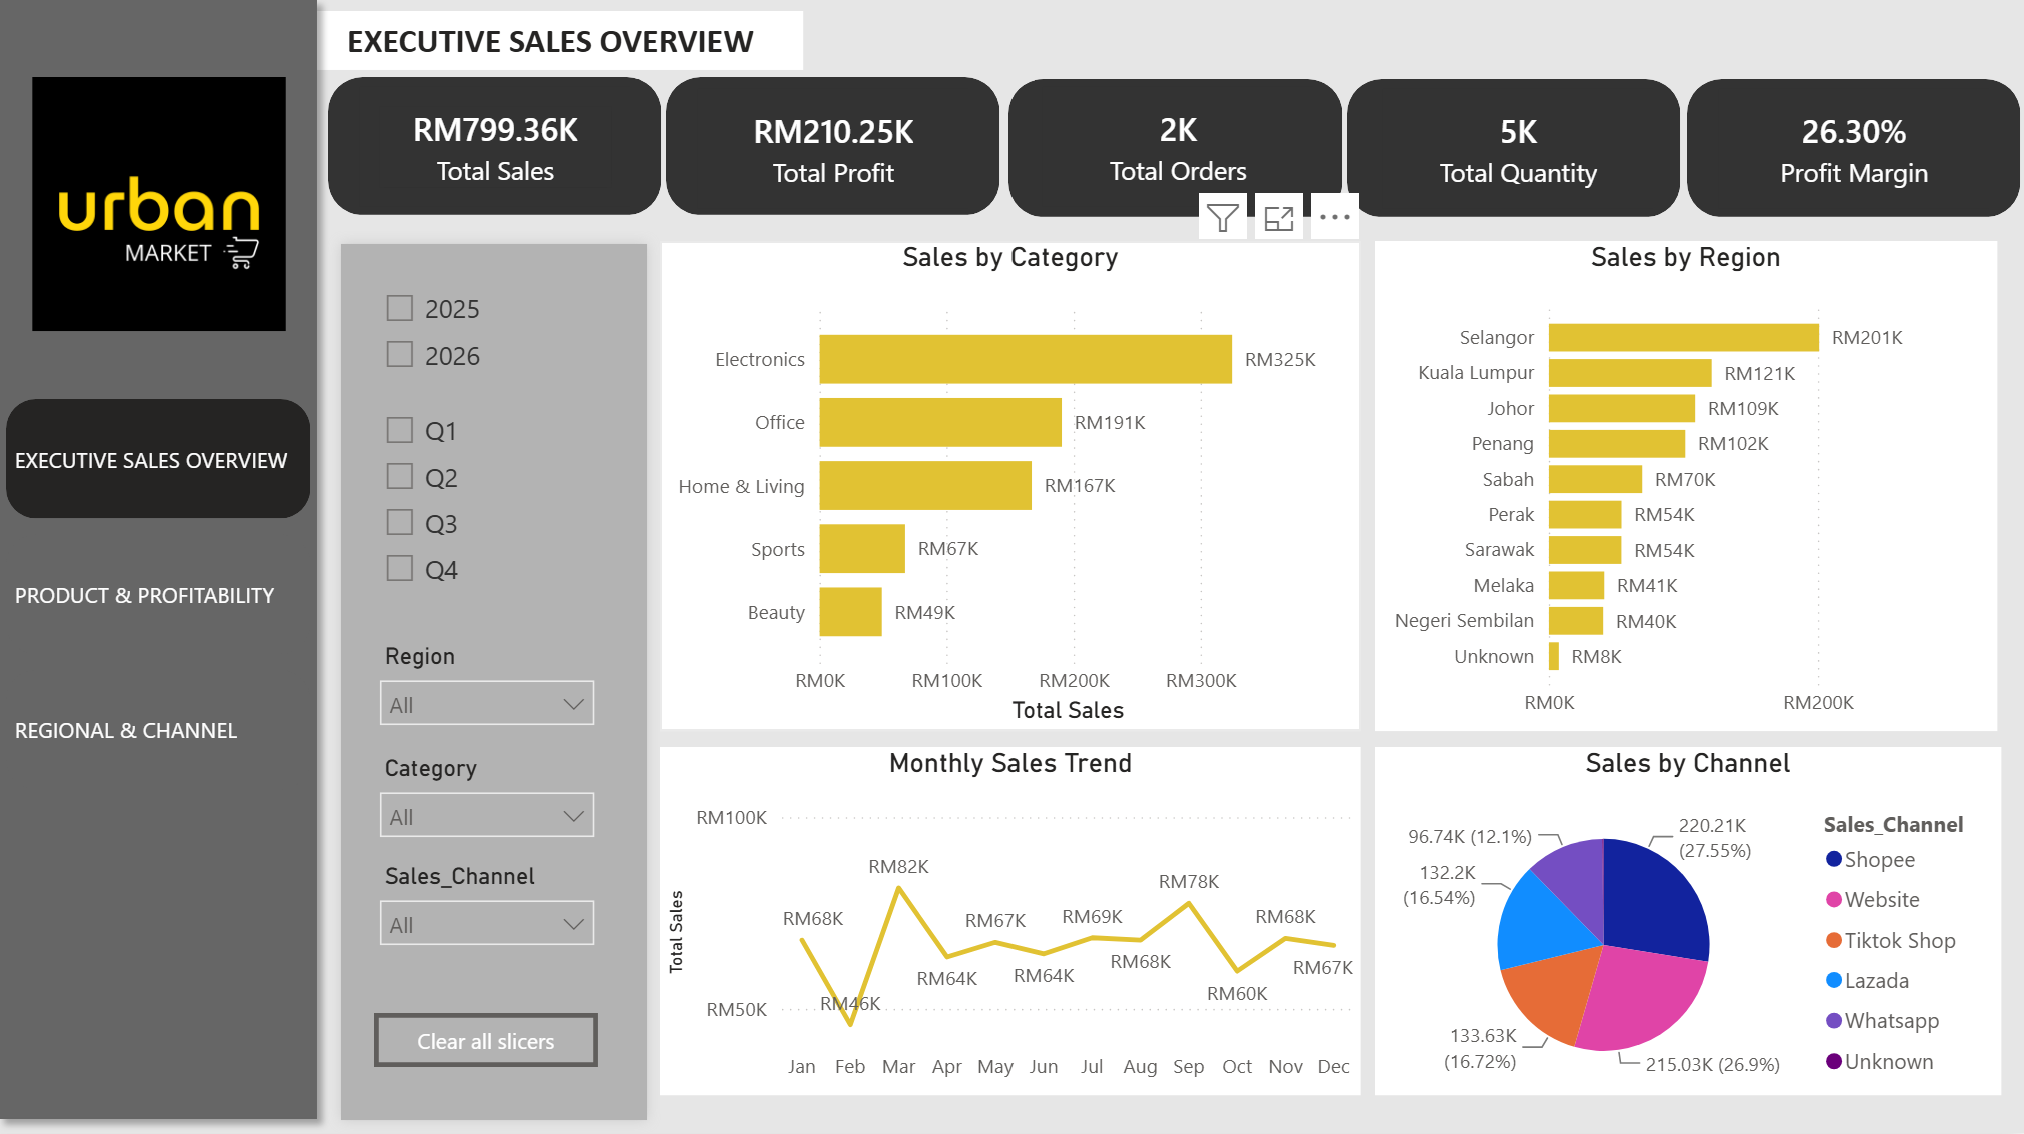

The dashboard page shown, as its layout file describes it:
{"tool":"powerbi","page":{"name":"EXECUTIVE SALES OVERVIEW","canvas":[1280,720],"ordinal":0},"visuals":[{"type":"textbox","box":[196.8,16.1,316.9,37.1],"z":0},{"type":"shape","box":[0,0,217.9,720.5],"z":1000},{"type":"pageNavigator","box":[13.6,260,191.9,247.6],"z":2000},{"type":"shape","box":[215.6,57.6,209.2,86.7],"z":3000},{"type":"shape","box":[428.5,57.6,209.2,86.7],"z":4000},{"type":"shape","box":[642.1,59,209.2,86.7],"z":5000},{"type":"shape","box":[855,59,209.2,86.7],"z":6000},{"type":"shape","box":[1068.5,58.9,209.2,86.7],"z":7000},{"type":"shape","box":[215.8,154.4,208.3,566],"z":8000},{"type":"cardVisual","fields":{"Data":["FactSales.Total Sales"]},"box":[230.4,58.9,180.7,85.4],"z":9000},{"type":"cardVisual","fields":{"Data":["FactSales.Total Profit"]},"box":[443.3,60.1,180.7,85.4],"z":10000},{"type":"cardVisual","fields":{"Data":["FactSales.Total Orders"]},"box":[659.4,59,180.7,85.4],"z":11000},{"type":"cardVisual","fields":{"Data":["FactSales.AOV"]},"box":[872.4,60.2,180.7,85.4],"z":12000},{"type":"cardVisual","fields":{"Data":["FactSales.Profit Margin"]},"box":[1083.3,60.1,180.7,85.4],"z":13000},{"type":"slicer","fields":{"Values":["DimDate.Year"]},"box":[239.7,183.2,171.9,76.5],"z":14000},{"type":"slicer","fields":{"Values":["DimRegion.Region"]},"box":[238.4,408.5,154.4,67.8],"z":15000},{"type":"slicer","fields":{"Values":["DimProduct.Category"]},"box":[238.4,478.7,154.4,67.8],"z":16000},{"type":"slicer","fields":{"Values":["DimChannel.Sales_Channel"]},"box":[238.4,546.5,154.4,67.8],"z":17000},{"type":"actionButton","box":[244.1,644.4,140.5,33.9],"z":18000},{"type":"lineChart","title":"Monthly Sales Trend","fields":{"Category":["DimDate.MonthName"],"Y":["FactSales.Total Sales"]},"box":[424.2,478.1,439.2,218.4],"z":19000},{"type":"clusteredBarChart","title":"Sales by Category","fields":{"Category":["DimProduct.Category"],"Y":["FactSales.Total Sales"]},"box":[424.2,160.6,439.2,307.5],"z":20000},{"type":"clusteredBarChart","title":"Sales by Region","fields":{"Category":["DimRegion.Region"],"Y":["FactSales.Total Sales"]},"box":[872.2,160.6,390.3,307.5],"z":21000},{"type":"pieChart","title":"Sales by Channel","fields":{"Category":["DimChannel.Sales_Channel"],"Y":["FactSales.Total Sales"]},"box":[872.2,478.1,392.8,218.4],"z":22000},{"type":"slicer","fields":{"Values":["DimDate.Quarter"]},"box":[239.7,259.8,171.9,135.5],"z":23000},{"type":"image","box":[18.8,57.7,182,159.4],"z":24000}]}

Visuals, with their boxes in screenshot pixels (x1, y1, x2, y2):
textbox: {"x1": 280, "y1": 5, "x2": 790, "y2": 65}
shape: {"x1": 0, "y1": 0, "x2": 314, "y2": 1133}
pageNavigator: {"x1": 0, "y1": 397, "x2": 294, "y2": 796}
shape: {"x1": 310, "y1": 72, "x2": 647, "y2": 211}
shape: {"x1": 653, "y1": 72, "x2": 989, "y2": 211}
shape: {"x1": 996, "y1": 74, "x2": 1333, "y2": 213}
shape: {"x1": 1339, "y1": 74, "x2": 1676, "y2": 213}
shape: {"x1": 1683, "y1": 74, "x2": 2019, "y2": 213}
shape: {"x1": 310, "y1": 227, "x2": 646, "y2": 1133}
cardVisual - FactSales.Total Sales: {"x1": 334, "y1": 74, "x2": 625, "y2": 211}
cardVisual - FactSales.Total Profit: {"x1": 676, "y1": 76, "x2": 967, "y2": 213}
cardVisual - FactSales.Total Orders: {"x1": 1024, "y1": 74, "x2": 1315, "y2": 211}
cardVisual - FactSales.AOV: {"x1": 1367, "y1": 76, "x2": 1658, "y2": 213}
cardVisual - FactSales.Profit Margin: {"x1": 1706, "y1": 76, "x2": 1997, "y2": 213}
slicer - DimDate.Year: {"x1": 349, "y1": 274, "x2": 625, "y2": 397}
slicer - DimRegion.Region: {"x1": 347, "y1": 636, "x2": 595, "y2": 745}
slicer - DimProduct.Category: {"x1": 347, "y1": 749, "x2": 595, "y2": 858}
slicer - DimChannel.Sales_Channel: {"x1": 347, "y1": 858, "x2": 595, "y2": 967}
actionButton: {"x1": 356, "y1": 1016, "x2": 582, "y2": 1070}
"Monthly Sales Trend" lineChart: {"x1": 646, "y1": 748, "x2": 1353, "y2": 1100}
"Sales by Category" clusteredBarChart: {"x1": 646, "y1": 237, "x2": 1353, "y2": 732}
"Sales by Region" clusteredBarChart: {"x1": 1367, "y1": 237, "x2": 1995, "y2": 732}
"Sales by Channel" pieChart: {"x1": 1367, "y1": 748, "x2": 1999, "y2": 1100}
slicer - DimDate.Quarter: {"x1": 349, "y1": 397, "x2": 625, "y2": 615}
image: {"x1": 0, "y1": 72, "x2": 286, "y2": 328}
